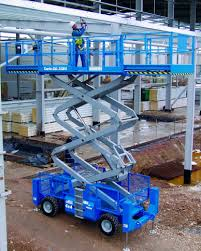Scissor Lift: (4, 33, 161, 251)
